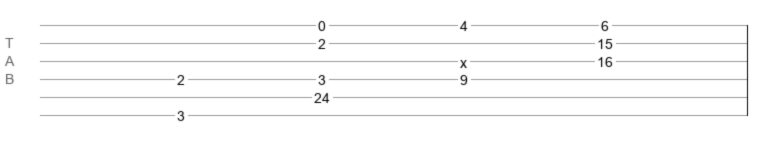0: (318, 18, 326, 28)
15: (597, 36, 613, 46)
16: (597, 54, 613, 64)
2: (177, 72, 185, 82), (318, 36, 326, 46)
24: (314, 90, 330, 100)
3: (177, 108, 185, 118), (318, 72, 326, 82)
4: (460, 18, 468, 28)
6: (601, 18, 609, 28)
9: (460, 72, 468, 82)
x: (460, 55, 467, 63)
